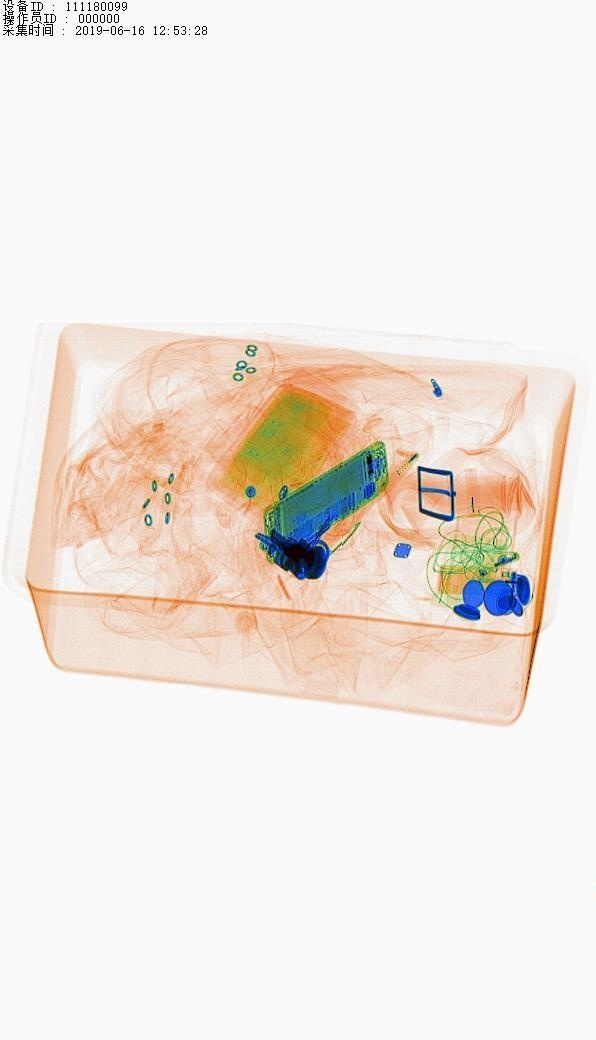NonmetallicFire: (436, 562, 534, 603)
